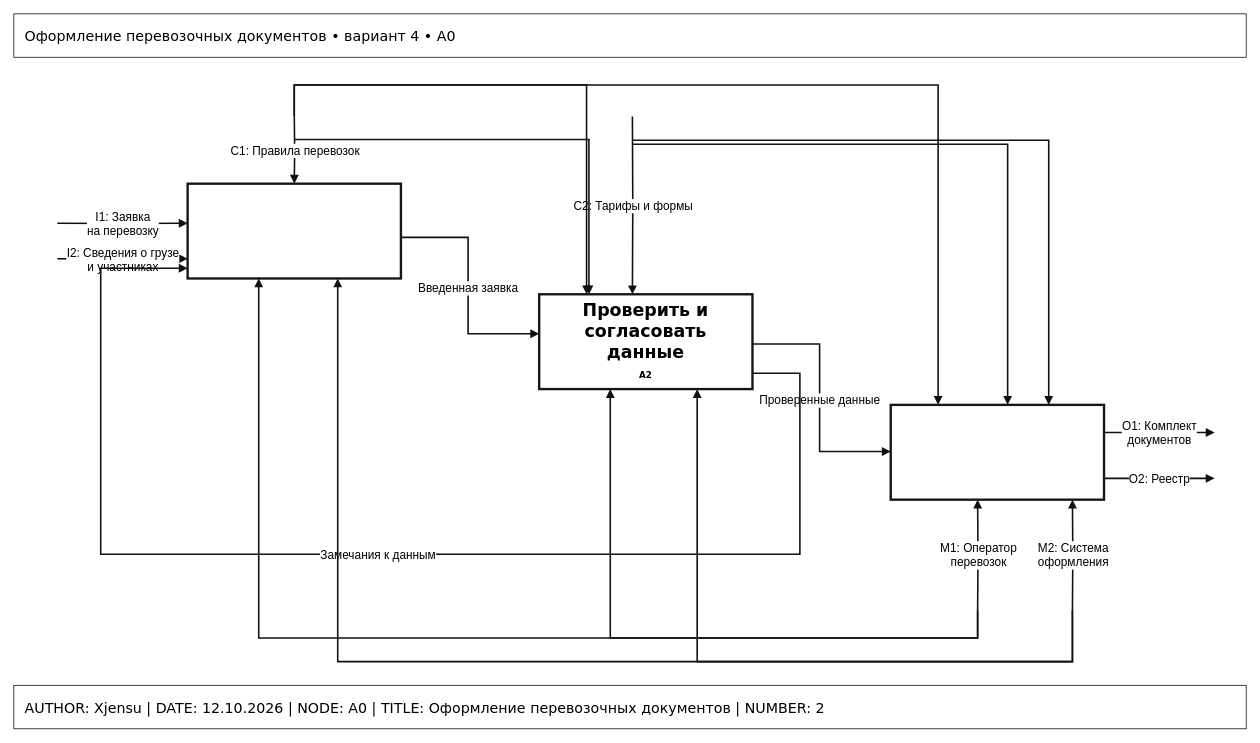
The diagram is 1260 pixels wide and 743 high, and some of its shapes have lost their labels. The centre of each missing label's shape, as x and y in pixels:
"Принять исходные сведения A1" belongs at [294,230].
"Сформировать и выдать документы A3" belongs at [997,451].
